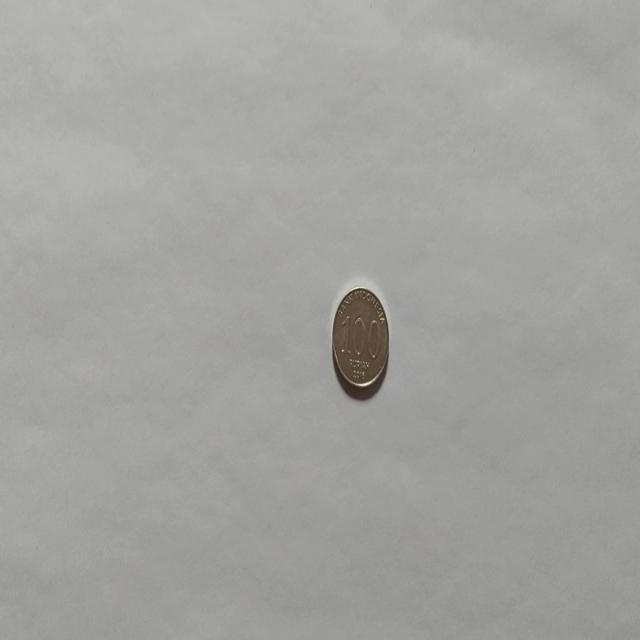seratus rupiah: (330, 284, 390, 393)
